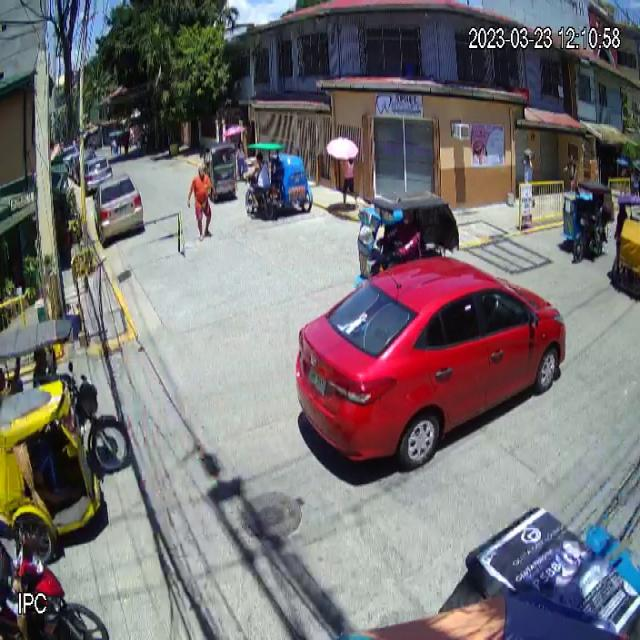Car: (294, 252, 568, 471)
